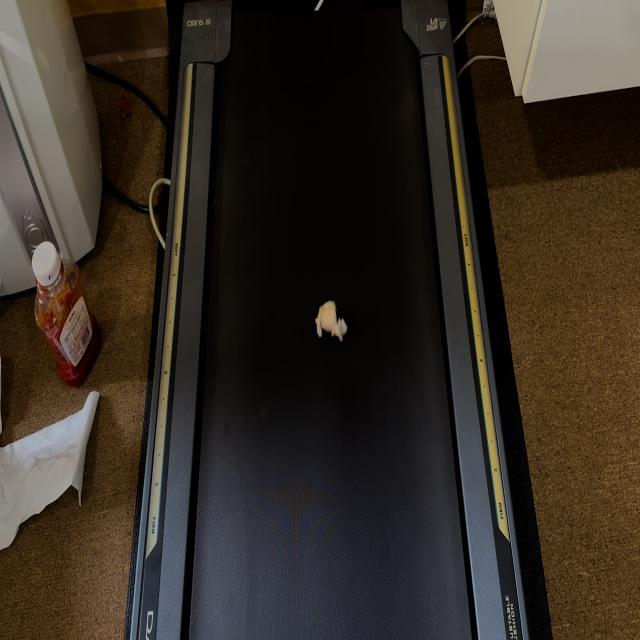Trash: (315, 300, 348, 344)
